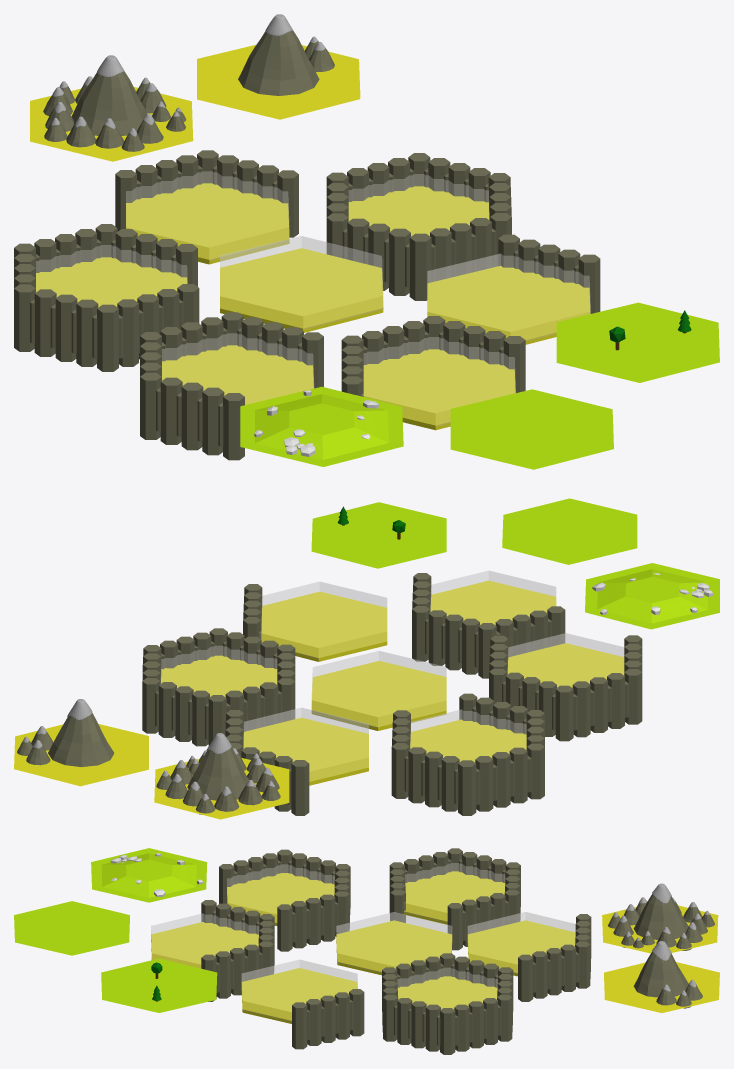
Rendered from Tatles.fbx.
3 views of the same model, one above another, from view 1: azimuth 30°, elevation 25°; view 2: azimuth 150°, elevation 25°; view 3: azimuth 270°, elevation 25° (orthographic). The views are drawn at different scales.
Visible parts, largest first — view 1: Stena_5, Stena_6, Stena_4, Voda.006, Dno.006, Voda.005, Voda.001, 6 granik.001, 6 granik.004, Voda.002, 6 granik.005, Dno.005 (+16 smaller); view 2: Stena_5, Stena_6, Stena_4, Voda.006, Voda.001, Stena_3, Dno.006, 6 granik.001, Dno.001, 6 granik.004, 6 granik.005, Voda.005 (+16 smaller); view 3: Stena_6, Stena_4, Stena_5, Voda.006, 6 granik.001, 6 granik.004, 6 granik.005, Voda.001, Dno.006, Stena_3, Voda.005, Gori_V2 (+16 smaller).
Part boxes in pixels (x1=…): Stena_5: x1=14, y1=224, x2=199, y2=371; Stena_6: x1=326, y1=153, x2=511, y2=300; Stena_4: x1=140, y1=312, x2=323, y2=460; Voda.006: x1=220, y1=236, x2=383, y2=329; Dno.006: x1=220, y1=248, x2=383, y2=332; Voda.005: x1=126, y1=171, x2=289, y2=260; Voda.001: x1=427, y1=253, x2=590, y2=341; 6 granik.001: x1=450, y1=389, x2=613, y2=469; 6 granik.004: x1=556, y1=302, x2=719, y2=382; Voda.002: x1=361, y1=337, x2=515, y2=426; 6 granik.005: x1=240, y1=386, x2=403, y2=466; Dno.005: x1=126, y1=183, x2=289, y2=264; Stena_5: x1=391, y1=693, x2=544, y2=815; Stena_6: x1=142, y1=628, x2=295, y2=746; Stena_4: x1=489, y1=635, x2=642, y2=741; Voda.006: x1=311, y1=651, x2=446, y2=728; Voda.001: x1=259, y1=581, x2=387, y2=658; Stena_3: x1=412, y1=573, x2=565, y2=678; Dno.006: x1=311, y1=661, x2=446, y2=730; 6 granik.001: x1=502, y1=498, x2=637, y2=564; Dno.001: x1=261, y1=591, x2=387, y2=661; 6 granik.004: x1=311, y1=502, x2=446, y2=568; 6 granik.005: x1=585, y1=563, x2=719, y2=629; Voda.005: x1=243, y1=707, x2=368, y2=781; Stena_6: x1=382, y1=953, x2=513, y2=1054; Stena_4: x1=219, y1=849, x2=350, y2=951; Stena_5: x1=389, y1=848, x2=520, y2=950; Voda.006: x1=336, y1=912, x2=452, y2=972; 6 granik.001: x1=14, y1=901, x2=129, y2=955; 6 granik.004: x1=101, y1=958, x2=217, y2=1012; 6 granik.005: x1=91, y1=848, x2=207, y2=902; Voda.001: x1=241, y1=959, x2=357, y2=1021; Dno.006: x1=336, y1=920, x2=452, y2=975; Stena_3: x1=201, y1=900, x2=274, y2=1001; Voda.005: x1=467, y1=912, x2=575, y2=973; Gori_V2: x1=608, y1=883, x2=714, y2=950.
Size of the model in its own units: 55.09 by 13.52 by 98.34.
